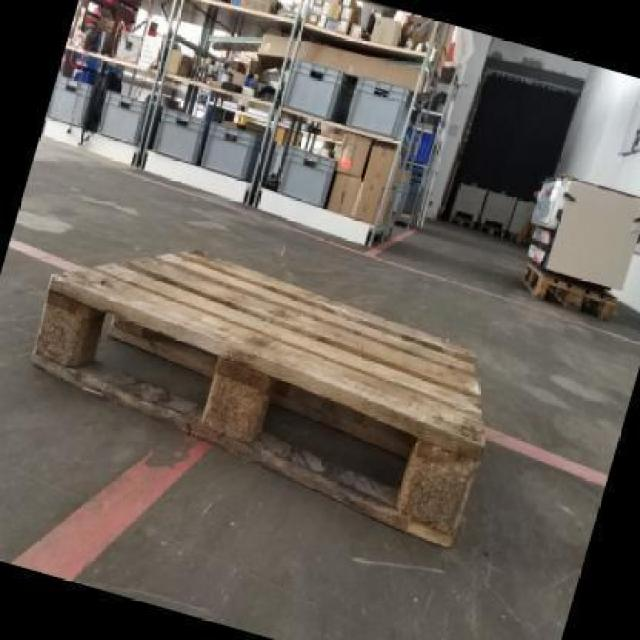block: (395, 430, 488, 531), (195, 354, 270, 436), (31, 275, 94, 368)
front: (19, 269, 489, 560)
